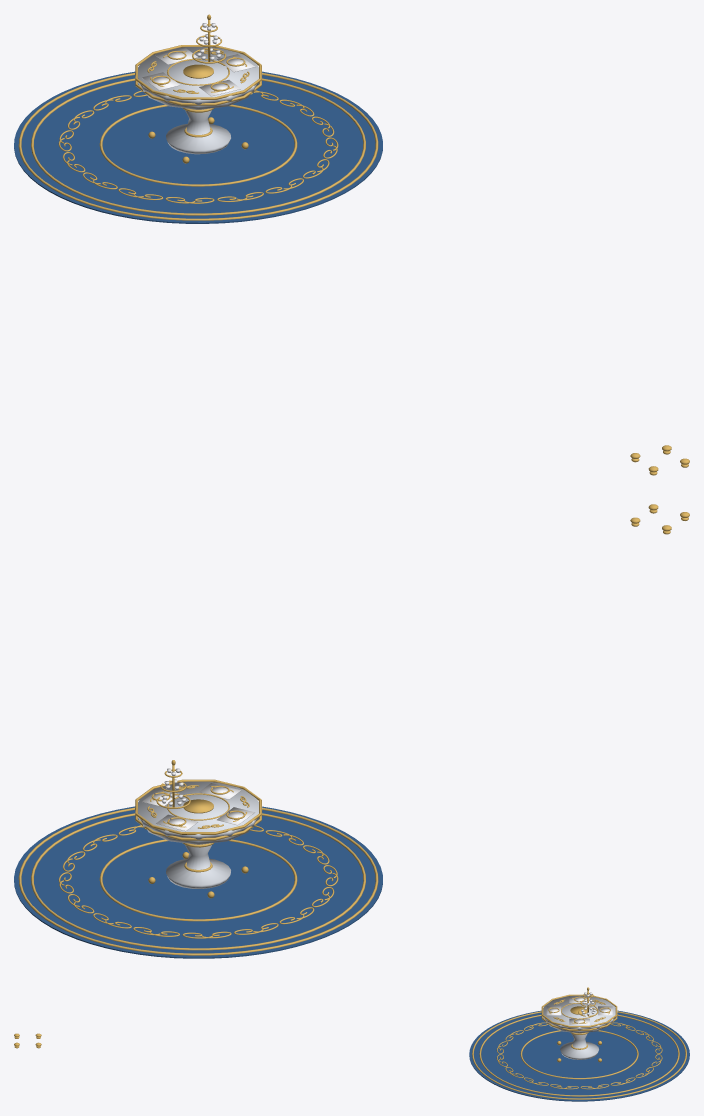
Rendered from KRM_STATIC_055.fbx.
3 views of the same model, one above another, from view 1: azimuth 30°, elevation 25°; view 2: azimuth 150°, elevation 25°; view 3: azimuth 270°, elevation 25° (orthographic). The views are drawn at different scales.
Visible parts, largest first — view 1: KRM_STATIC_055; view 2: KRM_STATIC_055; view 3: KRM_STATIC_055.
Boxes of the visible parts, x1,y1,x2,y2 form: KRM_STATIC_055: (14, 14, 689, 475); KRM_STATIC_055: (14, 504, 689, 958); KRM_STATIC_055: (14, 987, 689, 1101).
Bounding box in the file's own units: 360 × 131 × 1102.
Materials: 1 (1 with a texture image).
